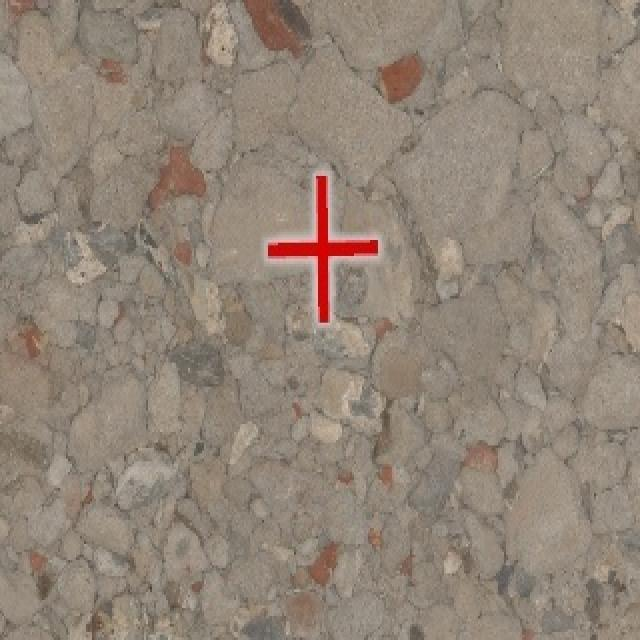x_marker: (267, 175, 377, 321)
